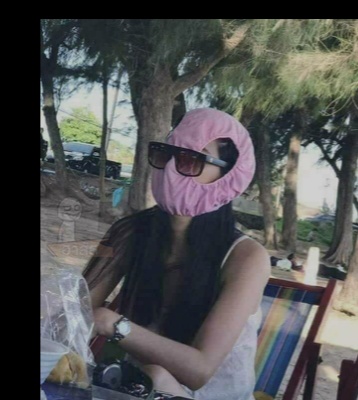with_mask: (149, 136, 220, 217)
